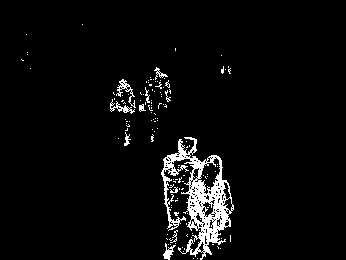person: (158, 136, 200, 256), (188, 154, 235, 257), (107, 77, 134, 148), (139, 75, 166, 143)
